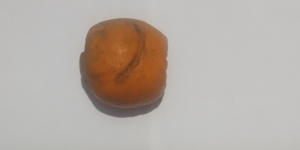BAD: (85, 16, 171, 111)
